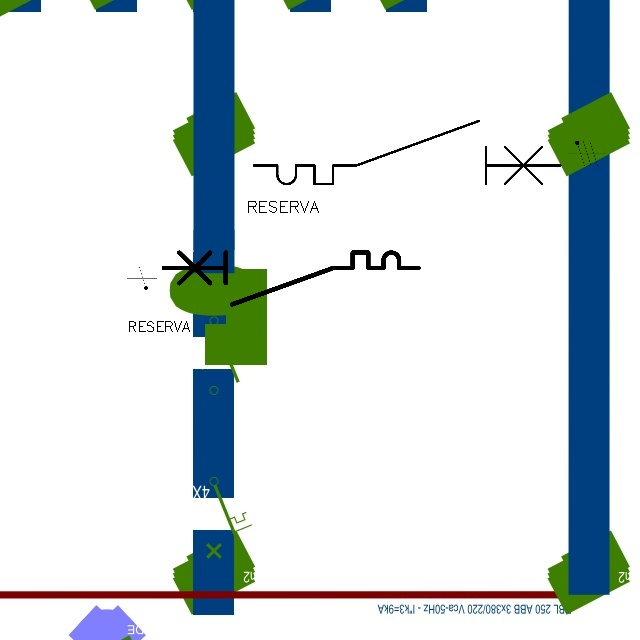interruptor_termomagnetico: (246, 113, 568, 192), (157, 246, 425, 311)
